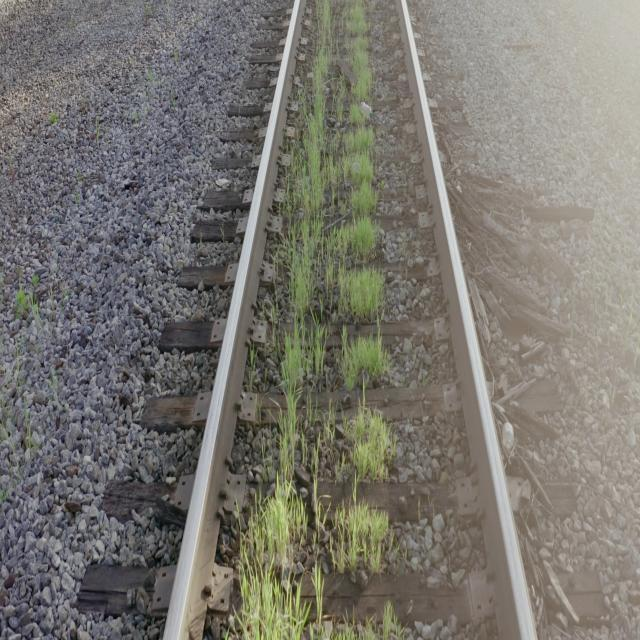Plant: (240, 0, 395, 638), (381, 607, 398, 638)
